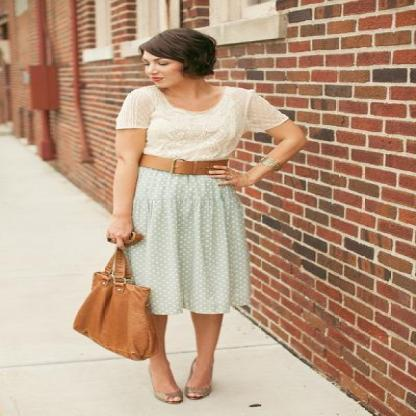bag: (73, 252, 154, 360)
shirt: (115, 80, 287, 160)
shoe: (155, 374, 211, 404)
skirt: (112, 167, 261, 318)
